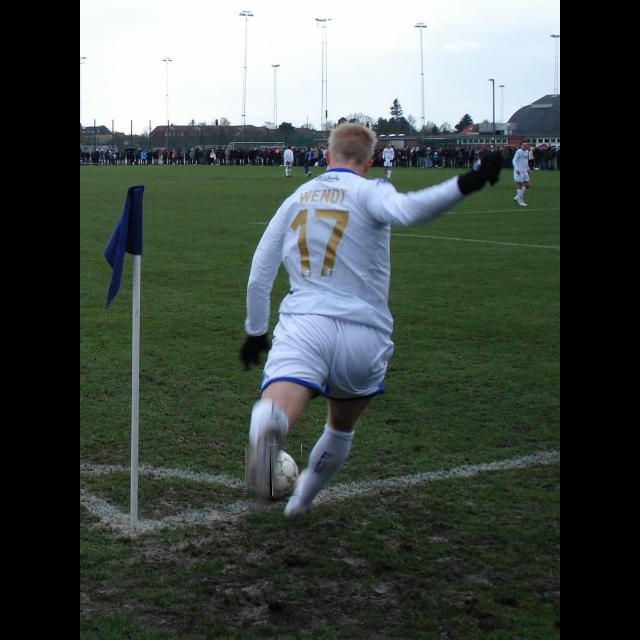Football: (270, 444, 302, 496)
